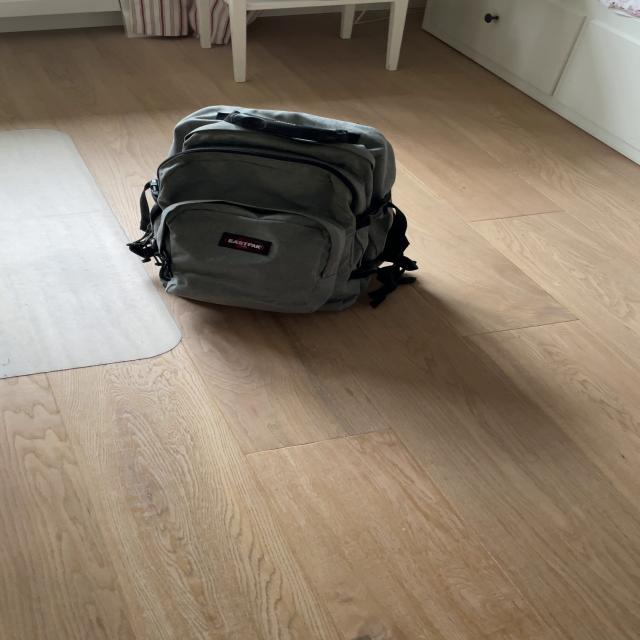backpack: (122, 94, 422, 320)
